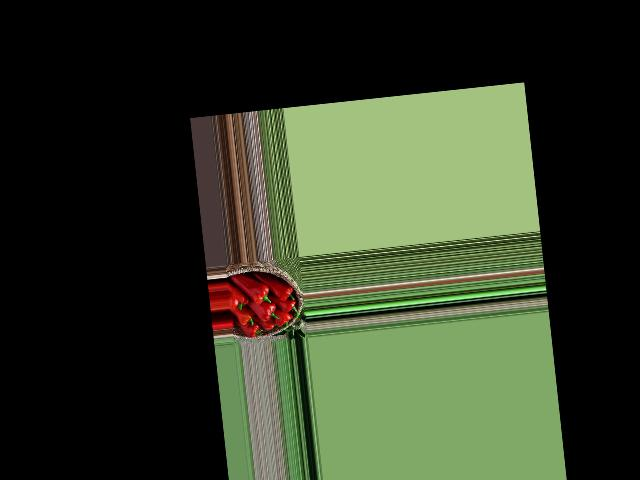bell_pepper: (277, 296, 300, 315)
